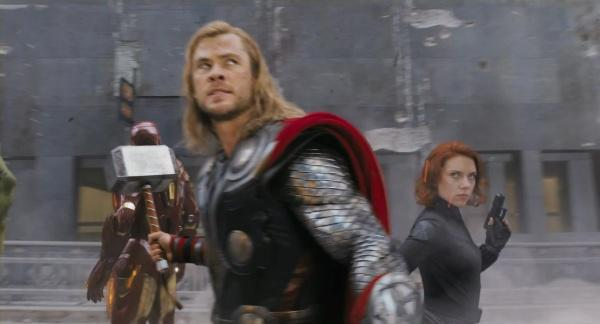Gun: (484, 194, 509, 230)
